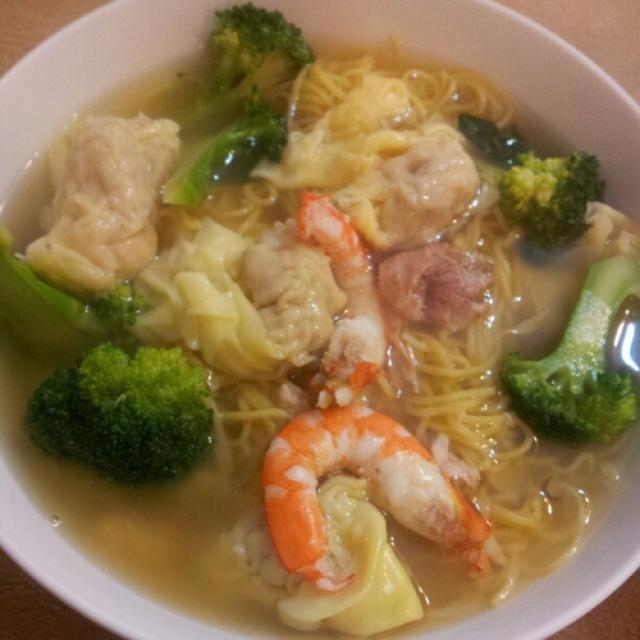汤锅炖物: (9, 18, 635, 631)
